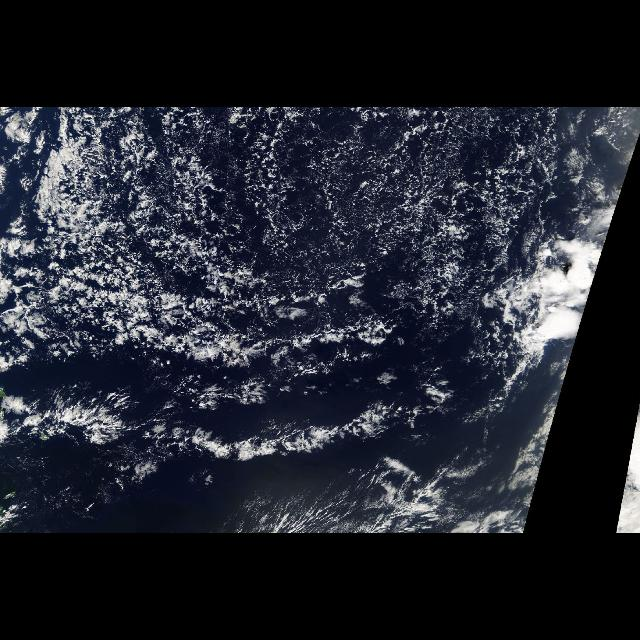Fish: (1, 374, 476, 481), (527, 160, 633, 382)
Gravel: (3, 108, 600, 374)
